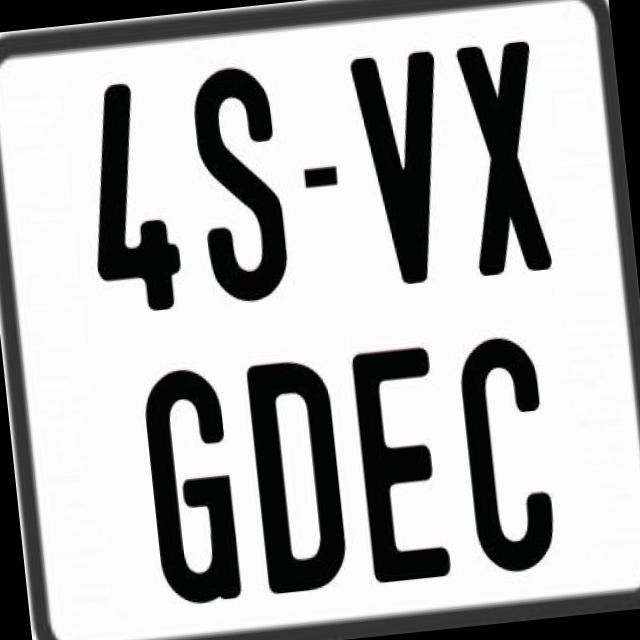4: (78, 79, 186, 319)
C: (452, 332, 560, 574)
D: (242, 358, 348, 599)
E: (346, 346, 456, 594)
G: (136, 362, 245, 610)
S: (186, 63, 294, 309)
V: (344, 47, 460, 286)
X: (454, 40, 554, 276)
